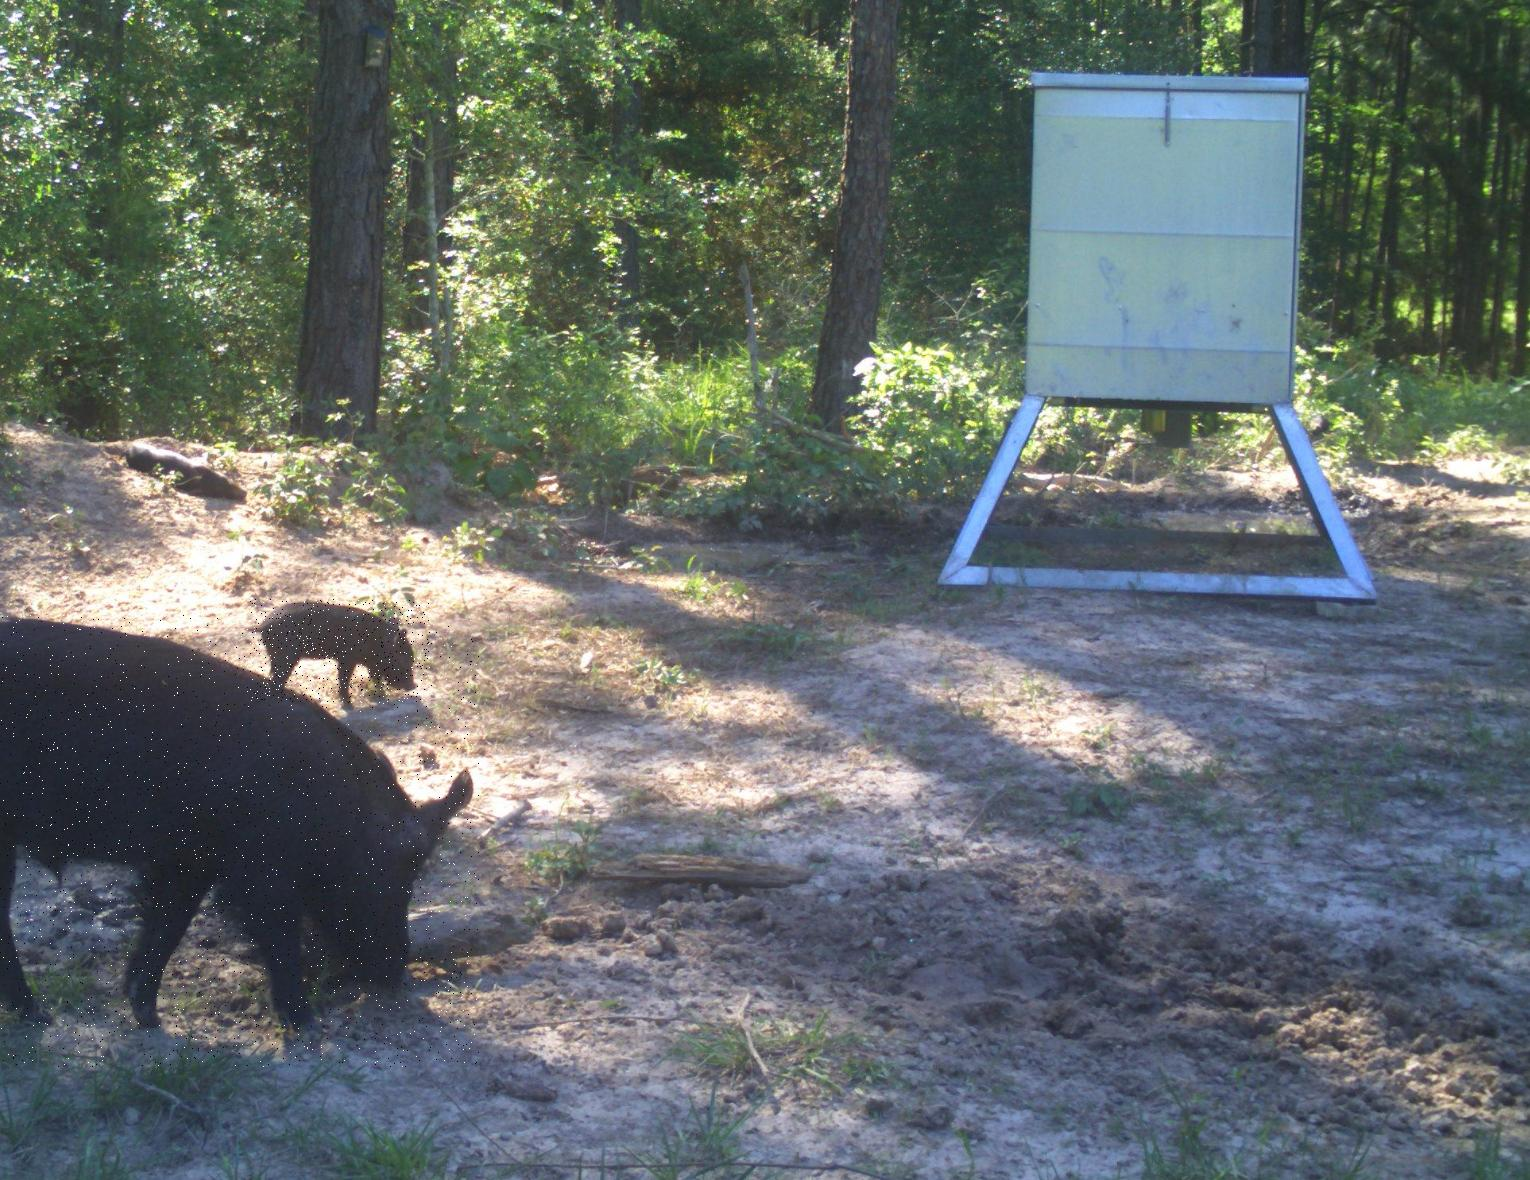Hog: (0, 614, 479, 1067), (250, 599, 430, 703)
